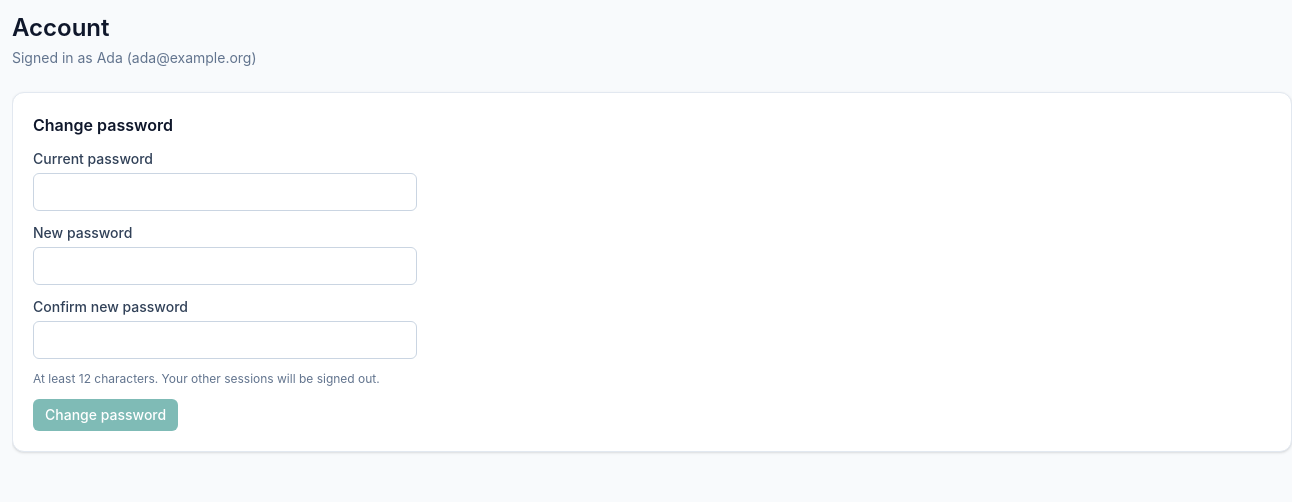
AccountPage › rejects a too-short new password without contacting the server
Type "old password 1" into the password field labelled "Current password".
click(225, 192); type("old password 1")  # box [33,173,417,211]
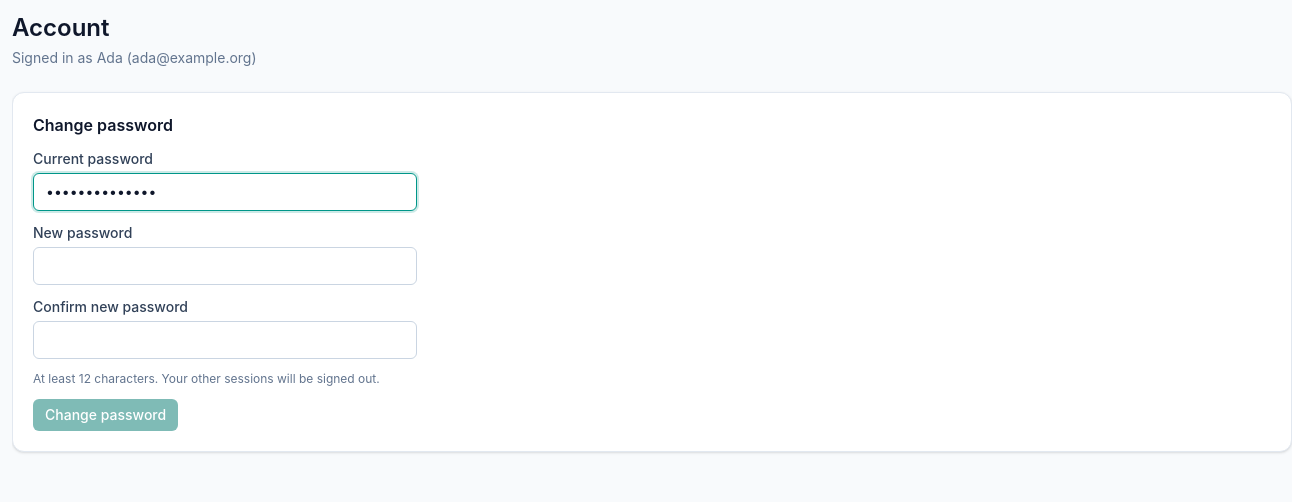
Type "short" into the password field labelled "New password".
click(225, 266); type("short")  # box [33,247,417,285]
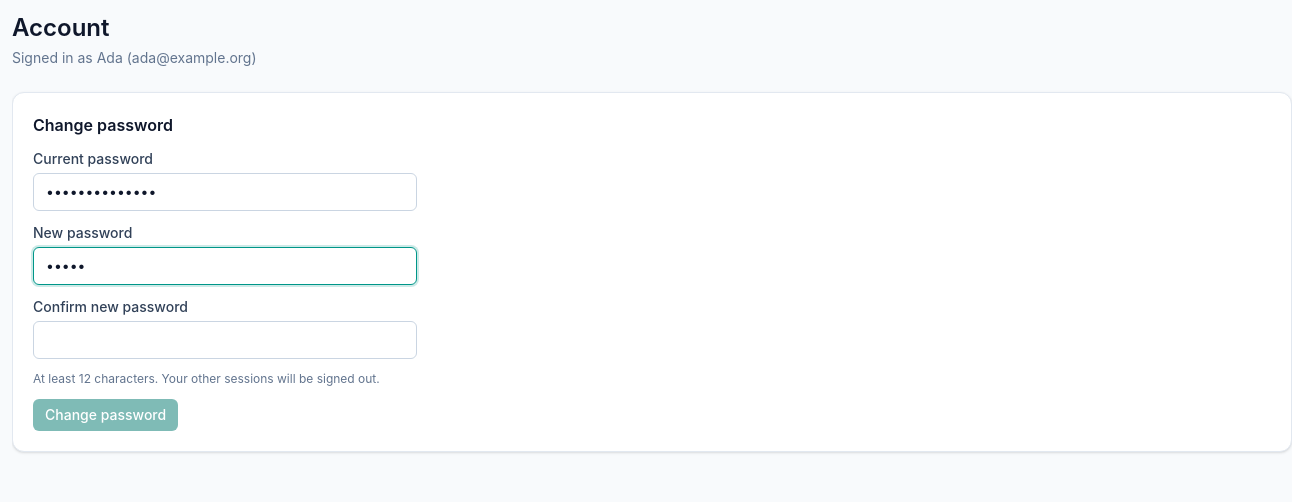
Type "short" into the password field labelled "Confirm new password".
click(225, 340); type("short")  # box [33,321,417,359]
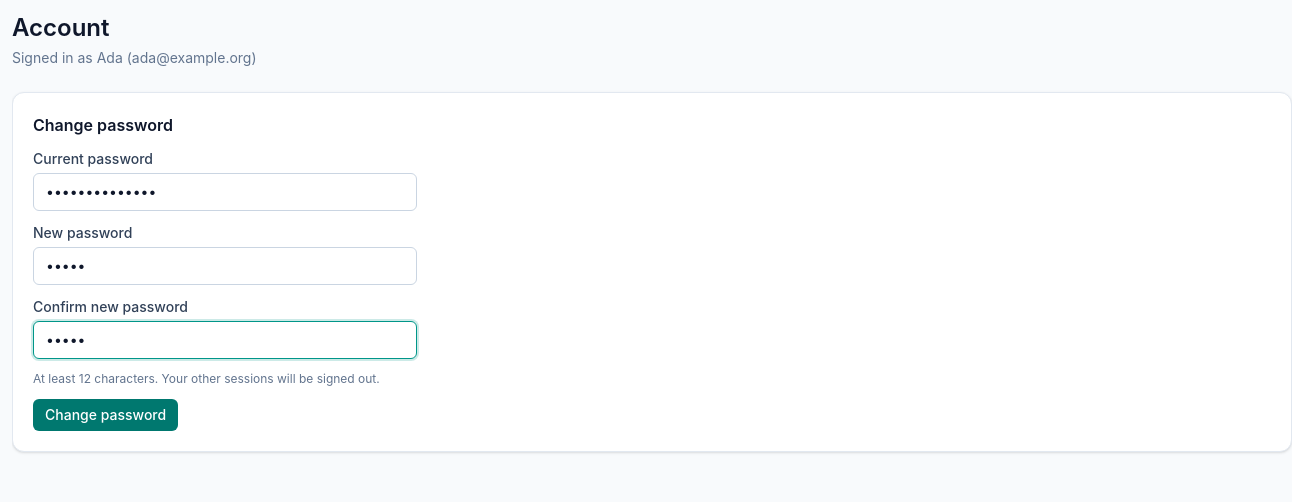
Click the button "Change password".
click(106, 415)  # box [33,399,178,431]
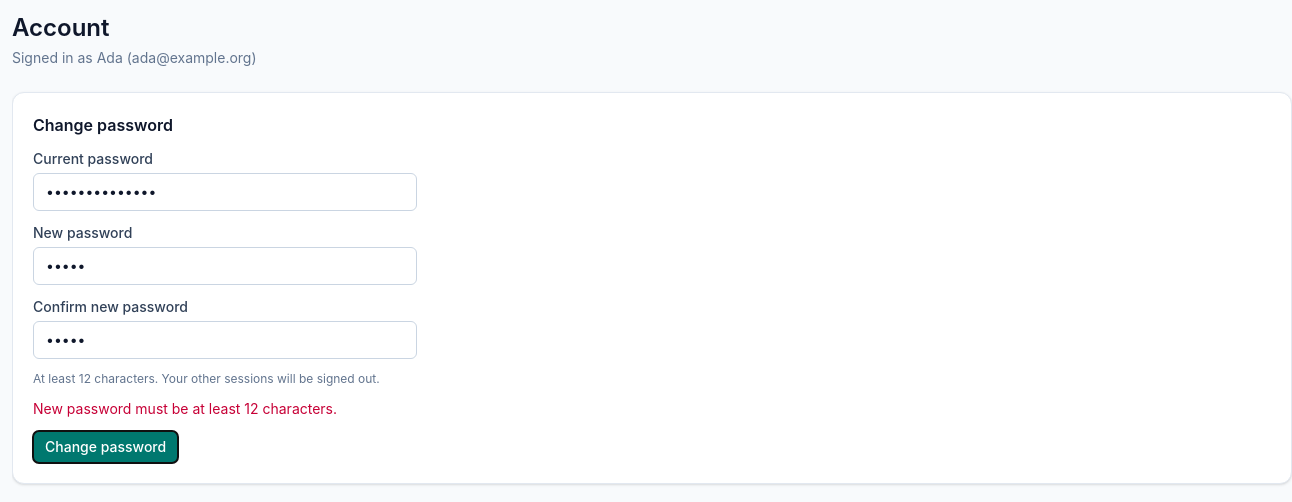
Now the message shows "at least 12 characters", box [33,400,337,417]
